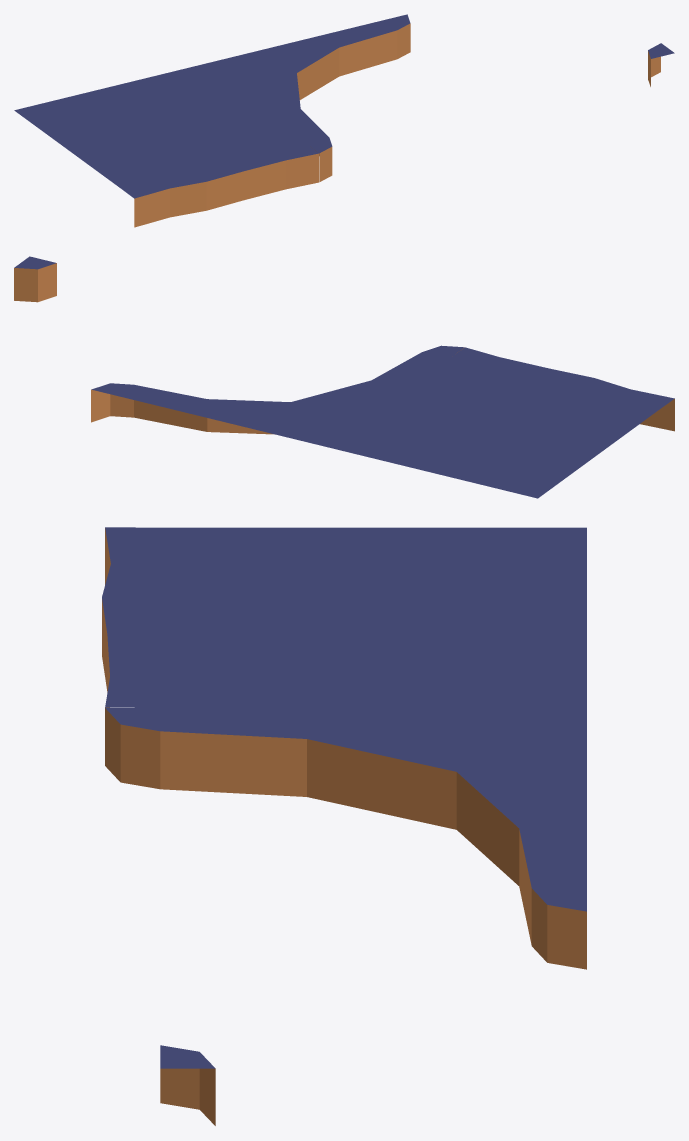
Rendered from tileset_path_smooth.fbx.
The picture shows the model from 3 angles, top to bottom: view 1: azimuth 30°, elevation 25°; view 2: azimuth 150°, elevation 25°; view 3: azimuth 270°, elevation 25°; orthographic projection. The views are drawn at different scales.
Visible parts, largest first — view 1: path_flat, path_in, path_line, path_saddle, path_out; view 2: path_flat, path_in, path_line, path_saddle; view 3: path_flat, path_in, path_line, path_saddle, path_out.
Part boxes in pixels (x1,y1,x2,y2): path_flat: (14, 65, 304, 188); path_in: (199, 20, 397, 155); path_line: (121, 143, 318, 227); path_saddle: (384, 14, 674, 86); path_out: (306, 137, 332, 182); path_flat: (328, 358, 658, 498); path_in: (118, 352, 448, 447); path_line: (449, 347, 674, 431); path_saddle: (14, 256, 133, 422); path_flat: (160, 527, 586, 707); path_in: (160, 708, 586, 944); path_line: (102, 527, 160, 707); path_saddle: (160, 888, 586, 1125); path_out: (105, 708, 160, 789).
Size of the model in its own units: 15.01 by 0.75 by 5.69.
